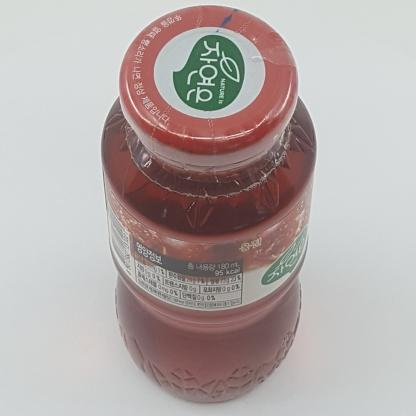-------180ML: (100, 5, 317, 403)
